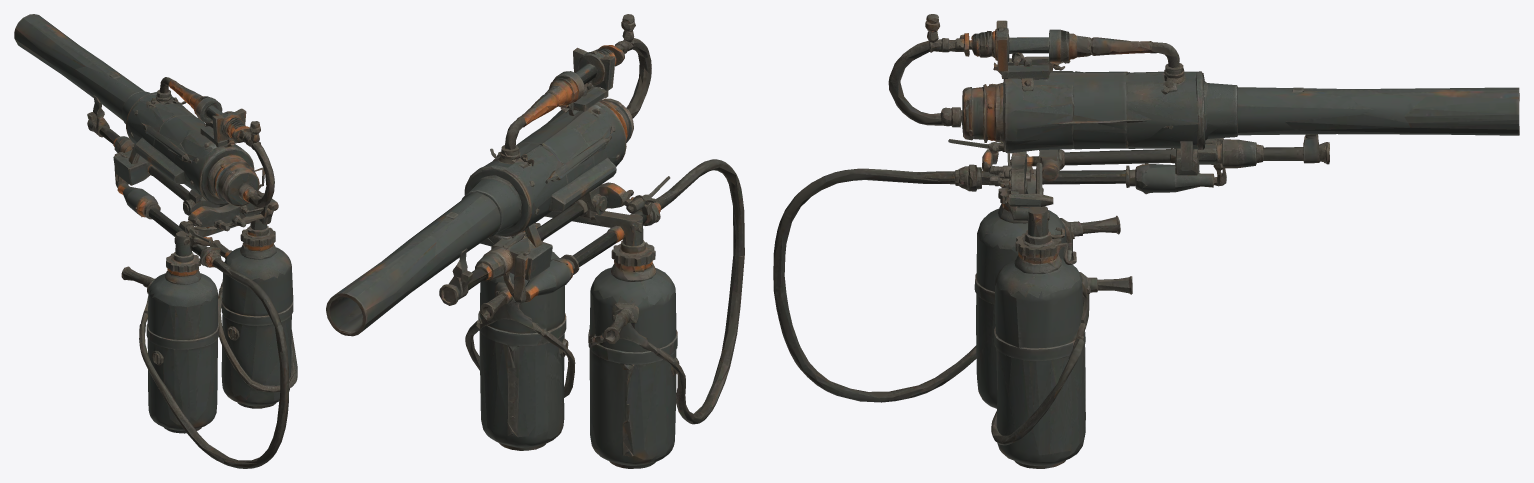
The model's file is tower_flame.glb.
3 renders of one model, left to right at view 1: azimuth 30°, elevation 25°; view 2: azimuth 150°, elevation 25°; view 3: azimuth 270°, elevation 25°, orthographic. The views are drawn at different scales.
Parts seen in each view (by area): view 1: tower_flame; view 2: tower_flame; view 3: tower_flame.
Boxes of the visible parts, <box> form: tower_flame: <box>14,14,297,468</box>; tower_flame: <box>326,14,744,468</box>; tower_flame: <box>773,14,1519,468</box>.
Size of the model in its own units: 0.5935 by 1.14 by 1.85.
Materials: 1 (1 with a texture image).
